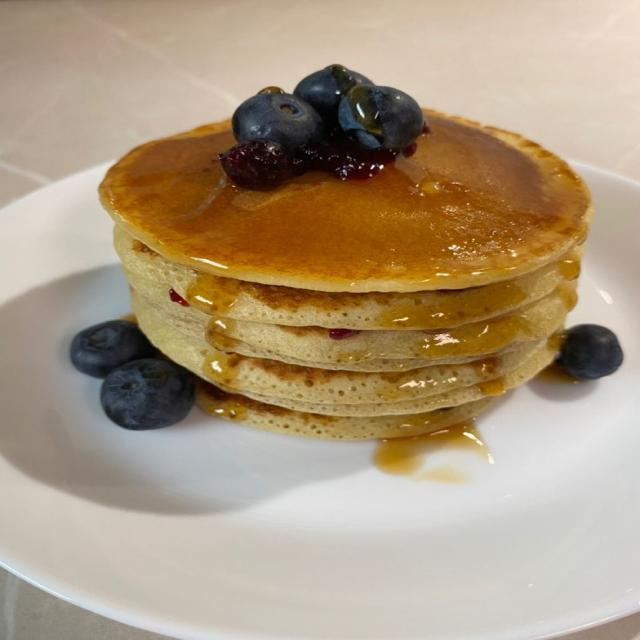blueberry: (103, 358, 194, 430), (338, 84, 424, 149), (232, 93, 323, 151), (294, 65, 372, 128), (70, 320, 154, 378), (556, 324, 623, 379)
pancake: (100, 112, 590, 439), (100, 112, 590, 291), (114, 226, 581, 329), (137, 305, 546, 403), (134, 282, 576, 364), (243, 344, 555, 416), (197, 381, 493, 440)
